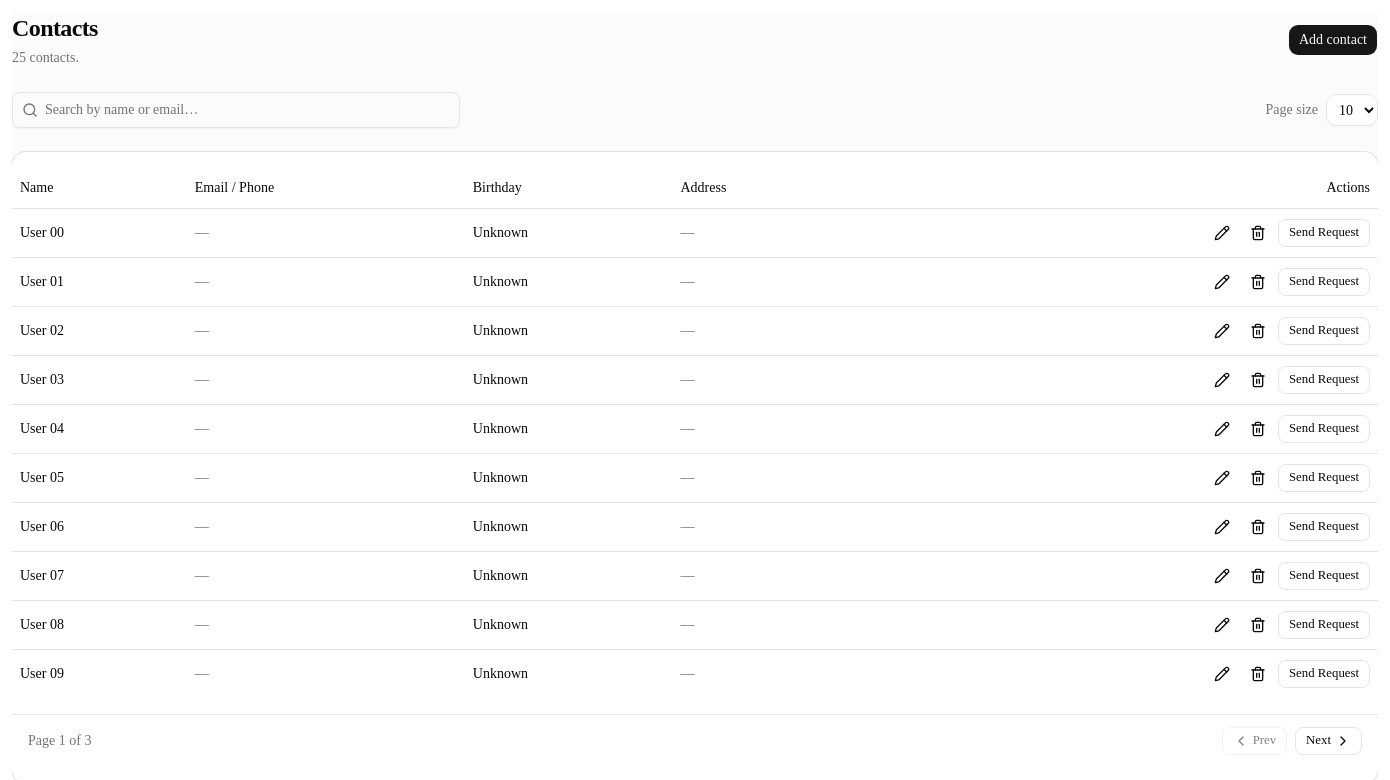
Test: ContactsPage pagination controls › shows 'Page X of Y' and walks pages via cursor
The image size is (1390, 780).
expect the text "Page 1 of 3" is shown: met, box [28, 730, 91, 750]
Click the button with aria-label "next page". click: (1329, 740)
box: [1295, 726, 1362, 754]
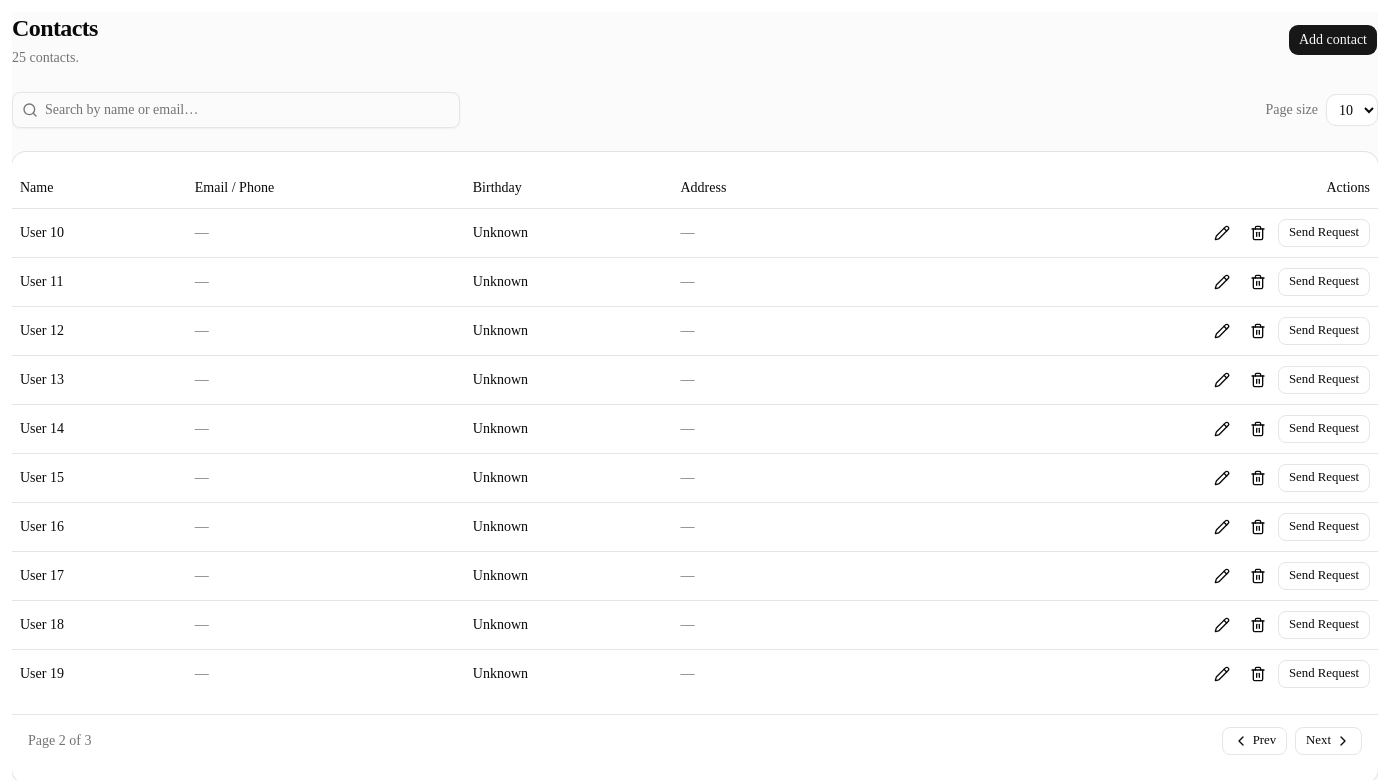
expect the text "Page 2 of 3" is shown: met, box [28, 730, 91, 750]
